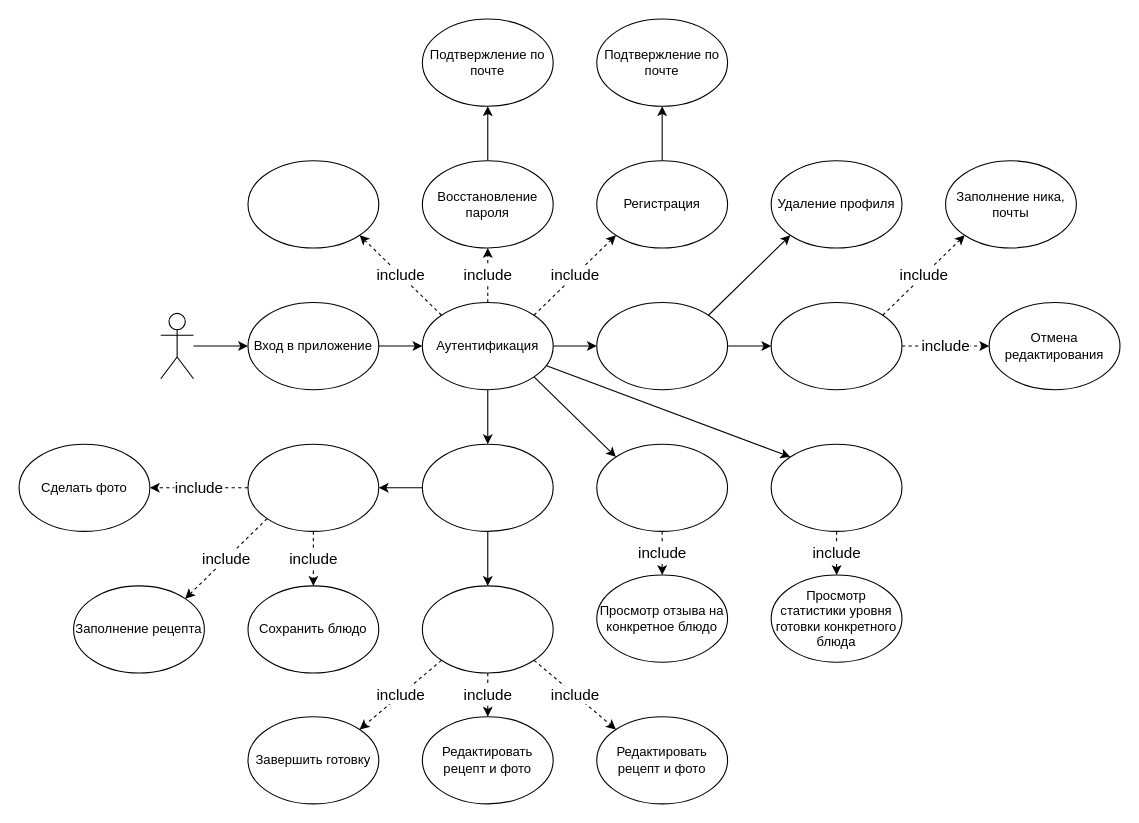
This 1139x823 diagram has some shape labels left out. The box of each missing label's shape, as (x1, y1, x2, y2) in pixels:
Actor: (160, 312, 193, 379)
Авторизация: (247, 160, 379, 248)
Добавить новое блюдо: (247, 443, 379, 531)
Переход в профиль: (596, 301, 728, 390)
Просмотр готовящихся блюд: (421, 585, 553, 673)
Просмотр истории готовок: (421, 443, 553, 531)
Просмотр оценок готовых блюд: (596, 443, 728, 531)
Просмотр статистики готовки блюд: (770, 443, 902, 531)
Редактирование профиля: (770, 301, 902, 390)
